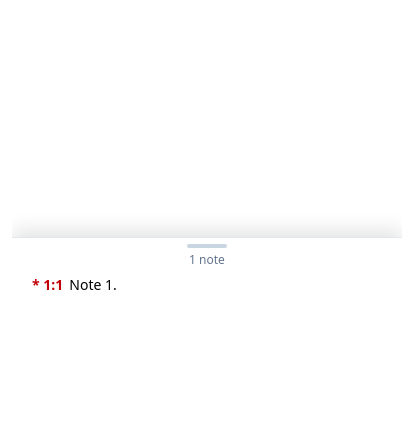
it: ChapterNotes › aCancelledDragPutsTheHeightBack
This screenshot has width=414, height=448.
Press the mouse on the button with aria-label "Resize the notes" at point(207, 256), box [12,238,402,274]
Click the button with aria-label "Resize the notes".
click(207, 256)  # box [12,238,402,274]
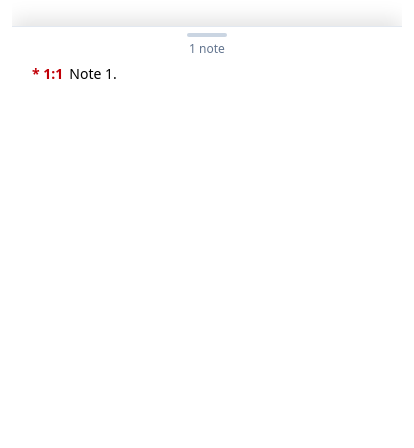
Expected: the element showing "1 note * 1:1 Note 1." has attribute data-size="half"
